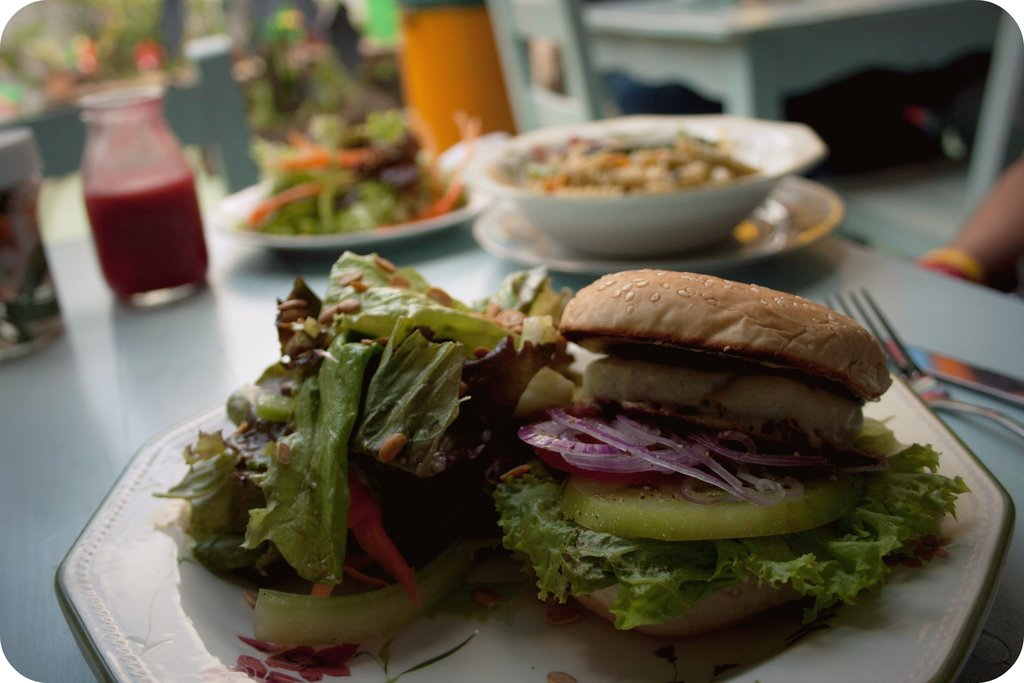Hamburger: (487, 267, 968, 639)
